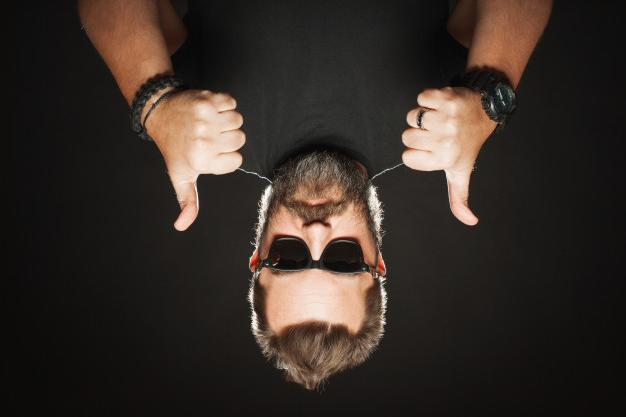thumbsdown: (400, 87, 480, 227), (171, 92, 246, 232)
